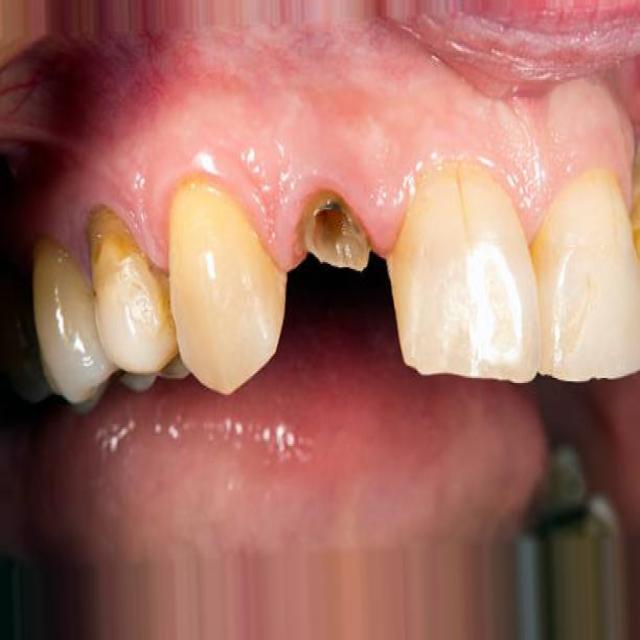caries: (297, 169, 383, 289), (79, 186, 144, 286)
